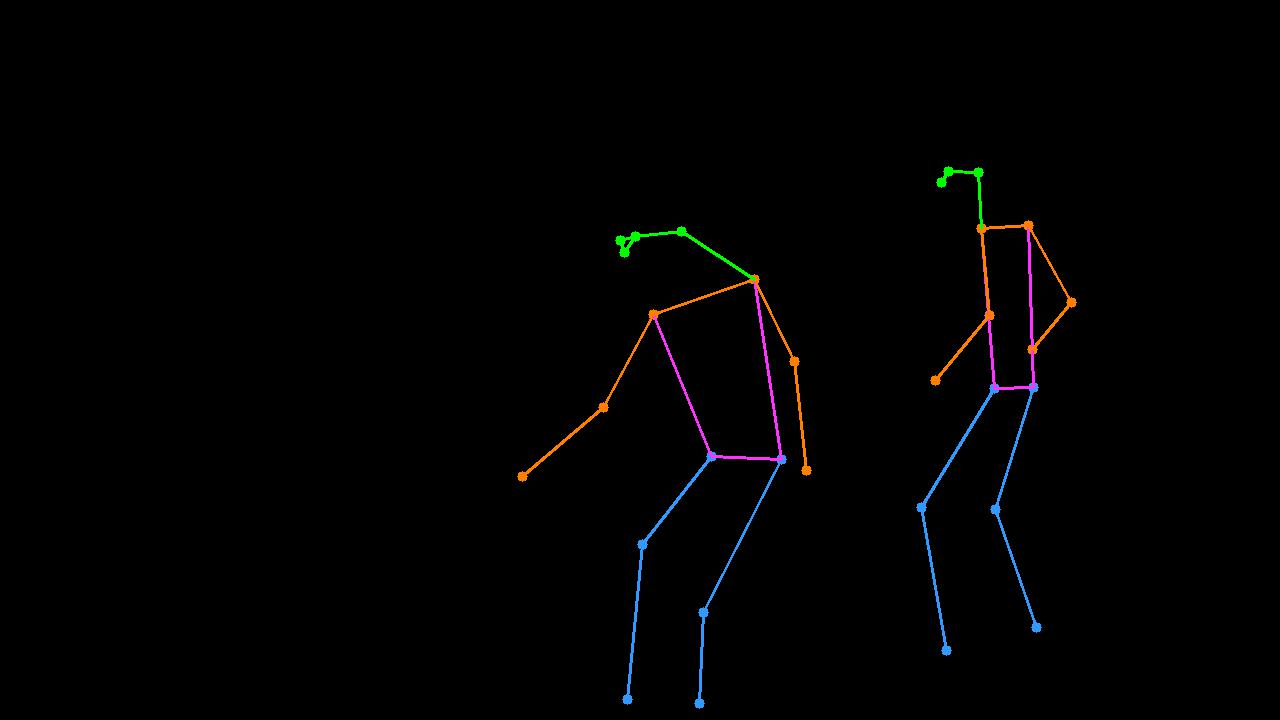normal: (488, 178, 844, 717), (888, 128, 1084, 698)
